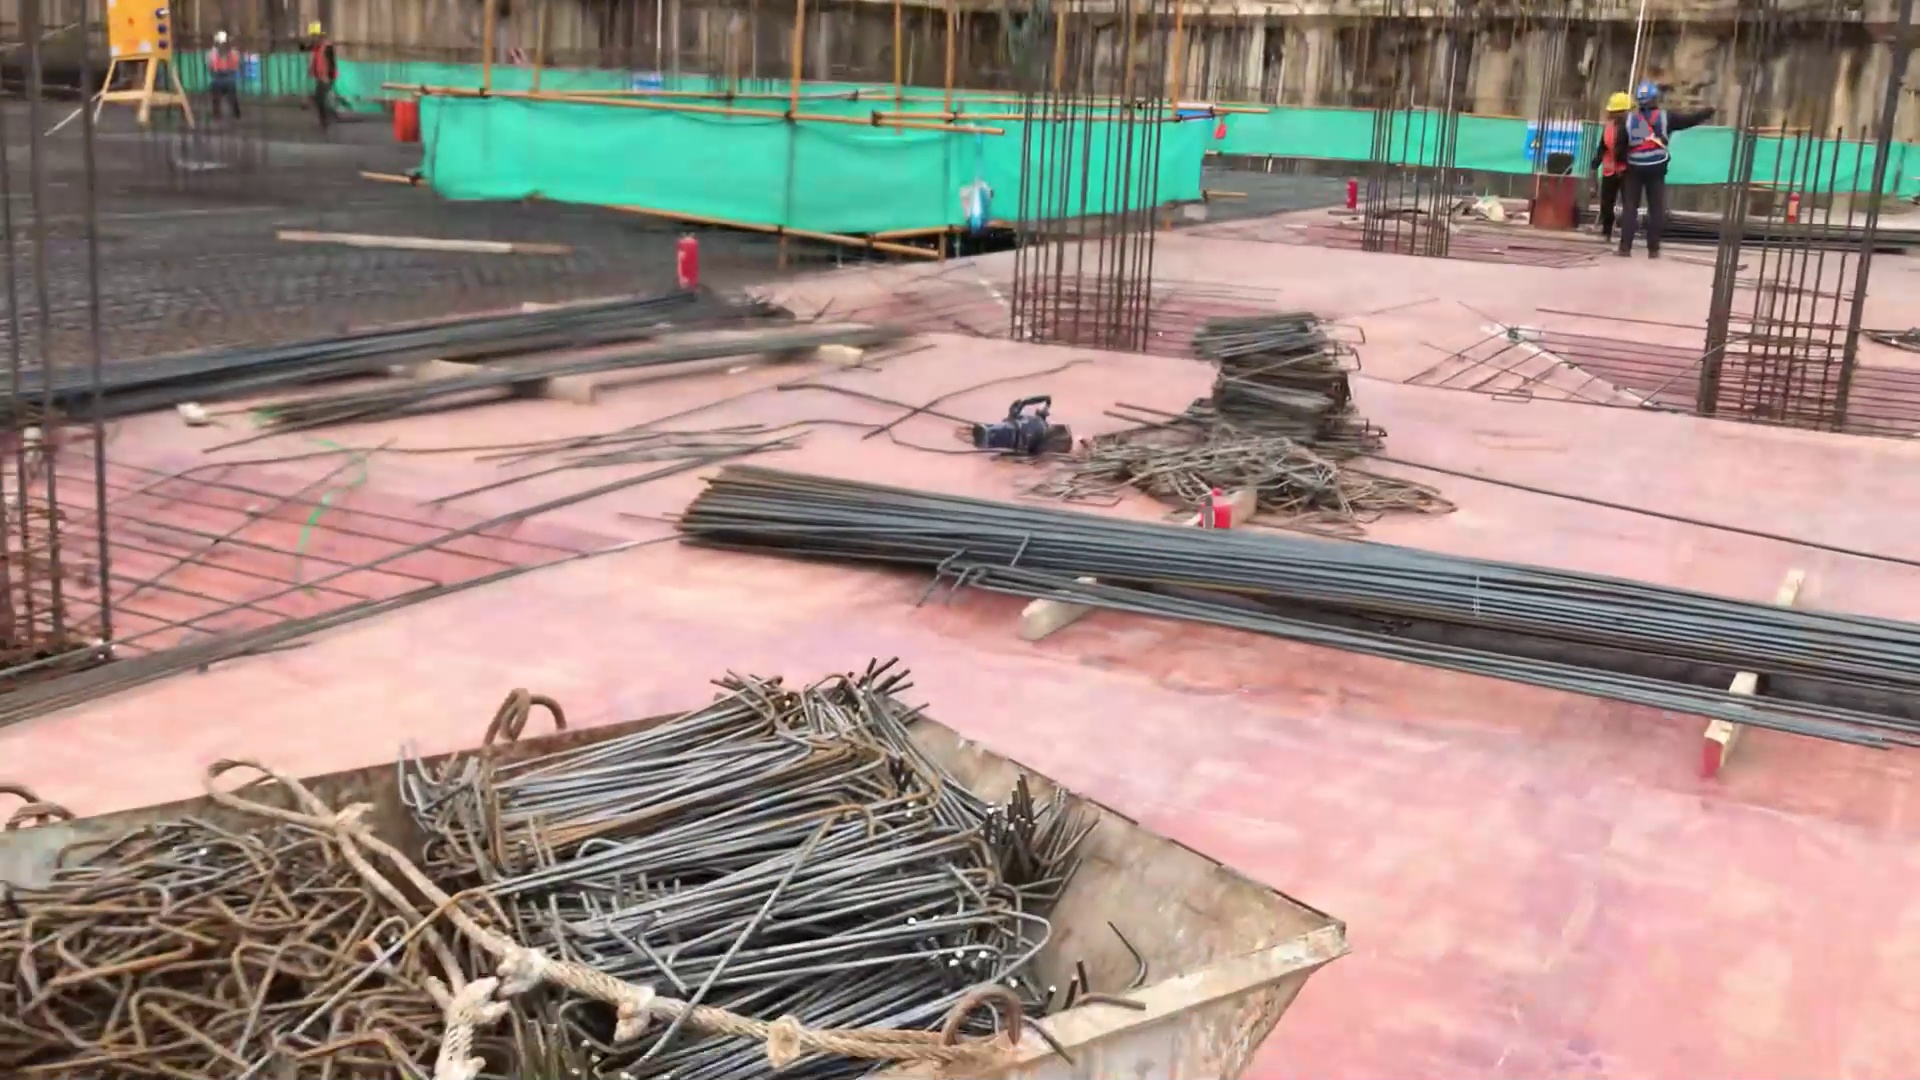ebox: (78, 1, 200, 140)
helmet: (1631, 83, 1661, 100), (1604, 95, 1629, 114), (304, 17, 329, 35), (212, 30, 229, 47)
hopper: (32, 679, 1354, 1080)
person: (1623, 71, 1705, 246), (291, 18, 341, 133), (1598, 88, 1632, 244), (201, 27, 251, 126)
rebar: (676, 440, 1920, 733), (29, 295, 894, 383)
slogan: (1521, 116, 1579, 169)
vest: (1636, 107, 1671, 163), (1600, 124, 1629, 177), (311, 43, 336, 98), (208, 47, 234, 79)
